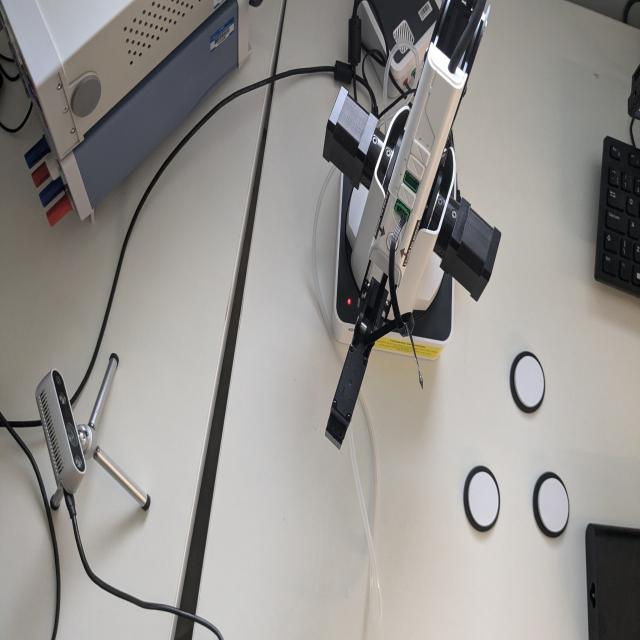Robot-end-effector-HF8z: (323, 338, 374, 458)
